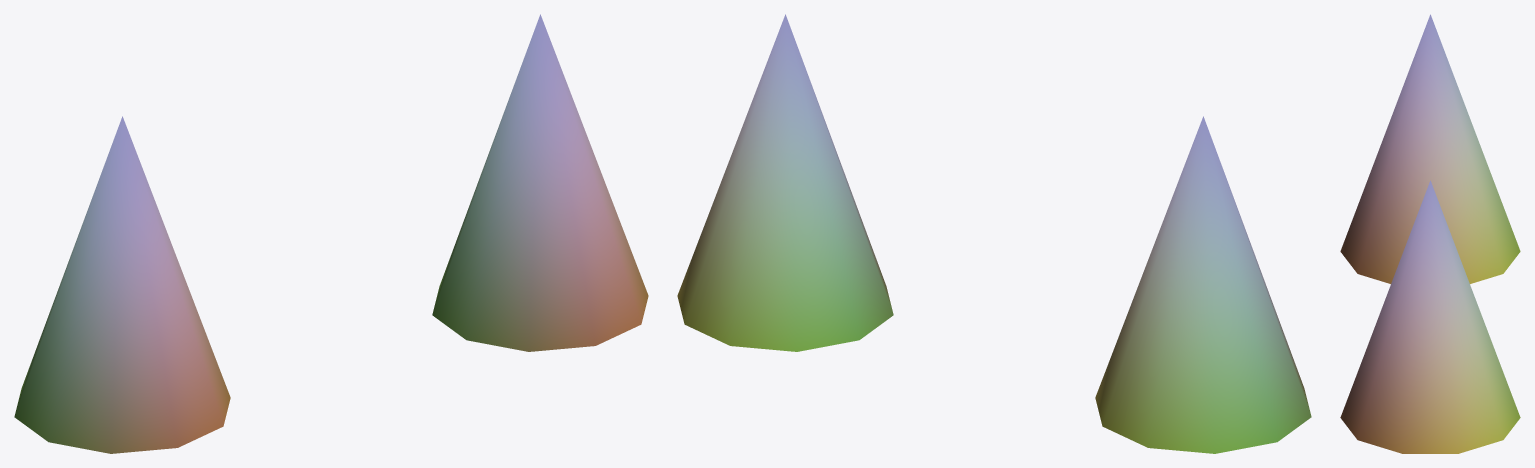
The model's file is acc_fangs.glb.
3 views of the same model, side by side, from view 1: azimuth 30°, elevation 25°; view 2: azimuth 150°, elevation 25°; view 3: azimuth 270°, elevation 25° (orthographic). The views are drawn at different scales.
Parts seen in each view (by area): view 1: fangs; view 2: fangs; view 3: fangs.
Part boxes in pixels (x1=…): fangs: x1=14, y1=14, x2=648, y2=453; fangs: x1=677, y1=14, x2=1311, y2=453; fangs: x1=1340, y1=14, x2=1520, y2=453.
Bounding box in the file's own units: 0.0345 × 0.016 × 0.011.
